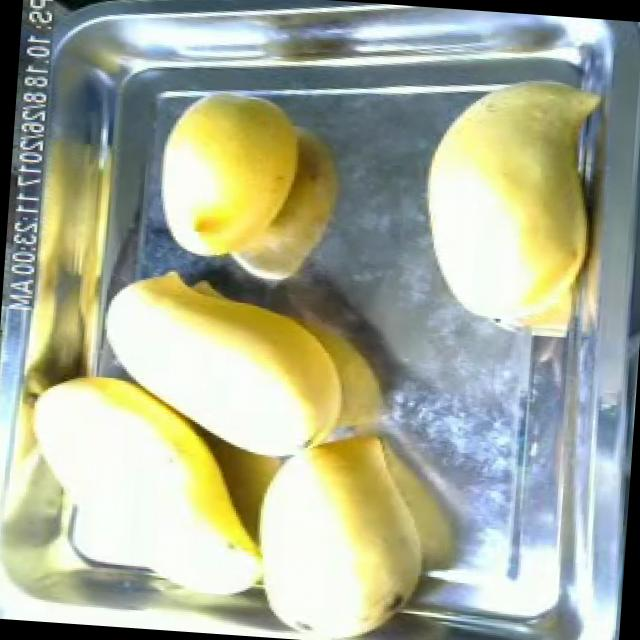fruit: (84, 264, 372, 485), (402, 54, 614, 323), (268, 412, 451, 640), (142, 82, 318, 287)
